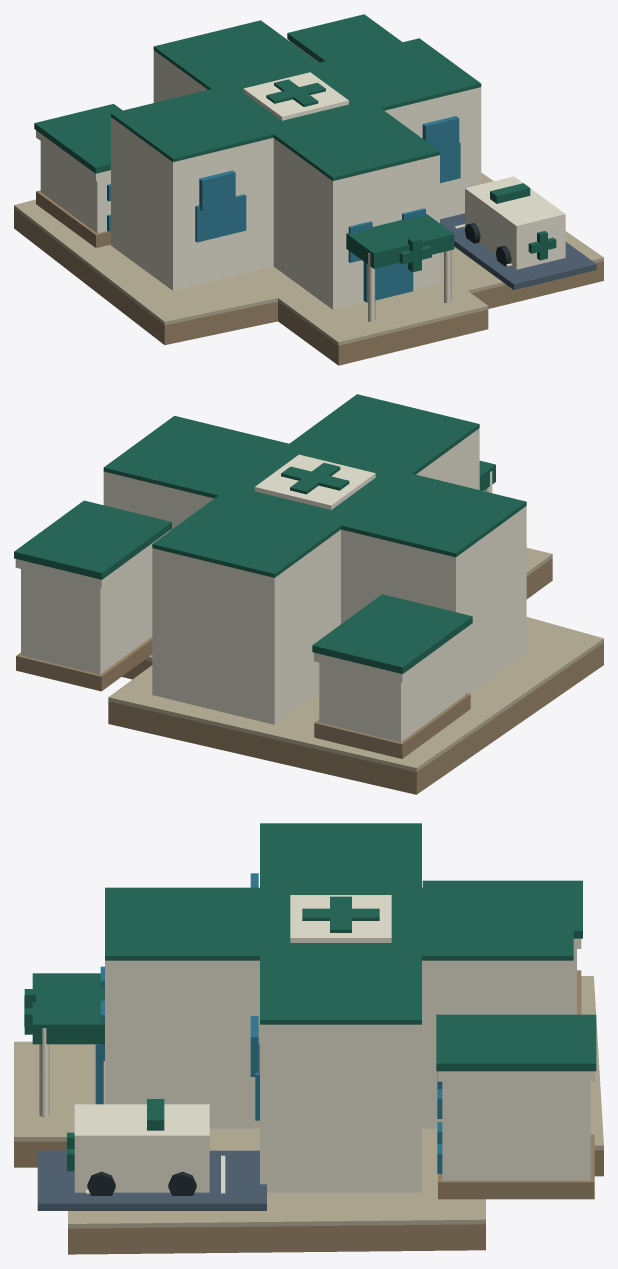
File: medical-center-lv3.glb
The picture shows the model from 3 angles, top to bottom: view 1: azimuth 30°, elevation 25°; view 2: azimuth 150°, elevation 25°; view 3: azimuth 270°, elevation 25°; orthographic projection. The views are drawn at different scales.
Parts seen in each view (by area): view 1: cross_clinic_white, cross_clinic_jade, foundation_paving, foundation_stoneDark, ambulance_white, inpatient_wing_white, entry_canopy_jade, inpatient_wing_roof_jade, ambulance_lane_slate, diagnostics_wing_roof_jade, clinic_windows_glass, upper_clinic_windows_glass (+9 smaller); view 2: cross_clinic_white, cross_clinic_jade, foundation_paving, diagnostics_wing_white, foundation_stoneDark, inpatient_wing_white, inpatient_wing_roof_jade, diagnostics_wing_roof_jade, roof_mark_white, inpatient_wing_stoneDark, diagnostics_wing_stoneDark, roof_mark_jade; view 3: cross_clinic_white, cross_clinic_jade, foundation_paving, diagnostics_wing_white, foundation_stoneDark, ambulance_white, diagnostics_wing_roof_jade, ambulance_lane_slate, entry_canopy_jade, roof_mark_white, diagnostics_wing_stoneDark, inpatient_wing_roof_jade (+6 smaller).
Boxes of the visible parts, left/top/right/bottom form: cross_clinic_white: left=111, top=50, right=481, bottom=309; cross_clinic_jade: left=111, top=20, right=481, bottom=180; foundation_paving: left=14, top=173, right=603, bottom=345; foundation_stoneDark: left=14, top=209, right=603, bottom=365; ambulance_white: left=465, top=176, right=565, bottom=269; inpatient_wing_white: left=36, top=130, right=110, bottom=233; entry_canopy_jade: left=346, top=214, right=454, bottom=268; inpatient_wing_roof_jade: left=34, top=104, right=122, bottom=173; ambulance_lane_slate: left=440, top=213, right=596, bottom=289; diagnostics_wing_roof_jade: left=287, top=14, right=402, bottom=62; clinic_windows_glass: left=195, top=142, right=460, bottom=262; upper_clinic_windows_glass: left=199, top=116, right=459, bottom=211; cross_clinic_white: left=103, top=428, right=526, bottom=724; cross_clinic_jade: left=103, top=394, right=526, bottom=577; foundation_paving: left=108, top=547, right=603, bottom=771; diagnostics_wing_white: left=15, top=530, right=170, bottom=674; foundation_stoneDark: left=108, top=558, right=603, bottom=794; inpatient_wing_white: left=314, top=624, right=470, bottom=742; inpatient_wing_roof_jade: left=312, top=594, right=472, bottom=673; diagnostics_wing_roof_jade: left=14, top=500, right=171, bottom=579; roof_mark_white: left=254, top=454, right=375, bottom=509; inpatient_wing_stoneDark: left=314, top=693, right=470, bottom=758; diagnostics_wing_stoneDark: left=16, top=637, right=152, bottom=691; roof_mark_jade: left=281, top=463, right=349, bottom=494; cross_clinic_white: left=105, top=960, right=573, bottom=1192; cross_clinic_jade: left=105, top=823, right=573, bottom=1024; foundation_paving: left=14, top=976, right=603, bottom=1228; diagnostics_wing_white: left=437, top=1071, right=594, bottom=1180; foundation_stoneDark: left=14, top=1141, right=603, bottom=1254; ambulance_white: left=74, top=1104, right=209, bottom=1192; diagnostics_wing_roof_jade: left=436, top=1014, right=596, bottom=1071; ambulance_lane_slate: left=37, top=1150, right=266, bottom=1210; entry_canopy_jade: left=32, top=973, right=104, bottom=1044; roof_mark_white: left=290, top=895, right=391, bottom=942; diagnostics_wing_stoneDark: left=438, top=1134, right=594, bottom=1199; inpatient_wing_roof_jade: left=422, top=880, right=582, bottom=938.
Size of the model in its own units: 1 by 0.3915 by 0.9887.
